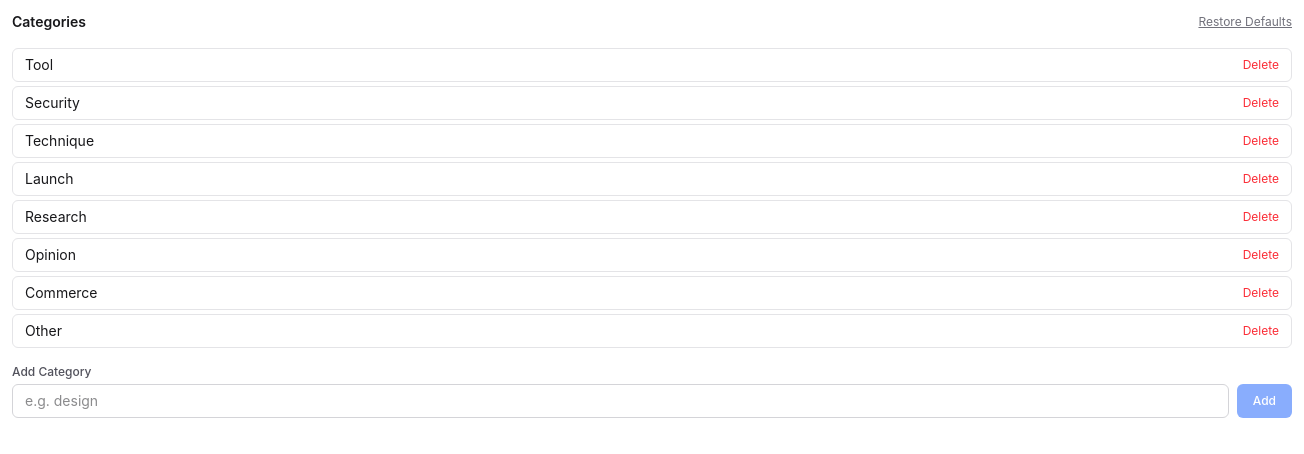
Test: CategoryEditor — adding a category › shows error when adding duplicate category
Type "tool" into the field labelled "Add Category". click: (620, 401)
box: [12,384,1229,418]
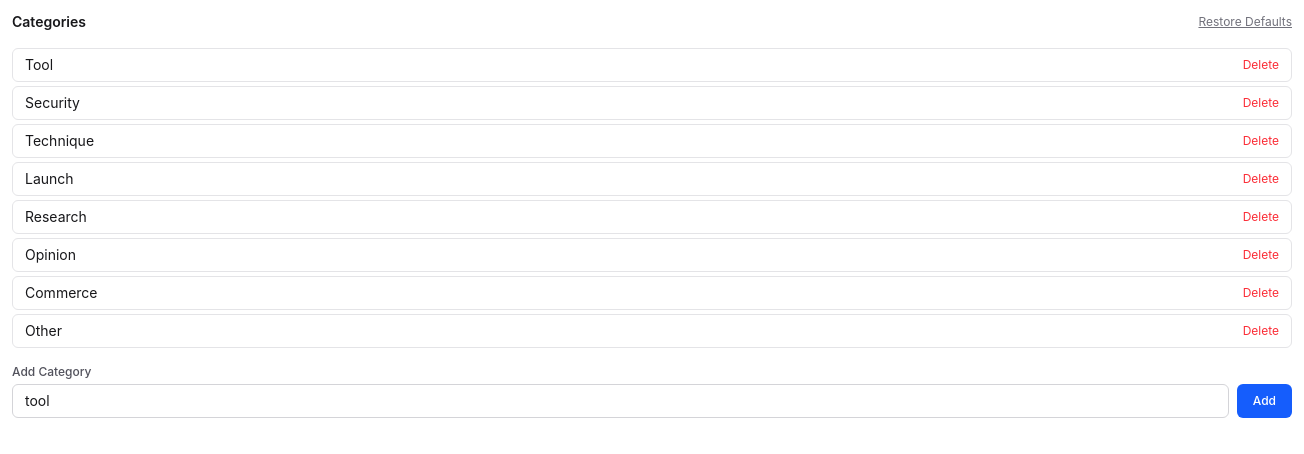
Click the button "Add". click: (1264, 401)
box: [1237,384,1292,418]
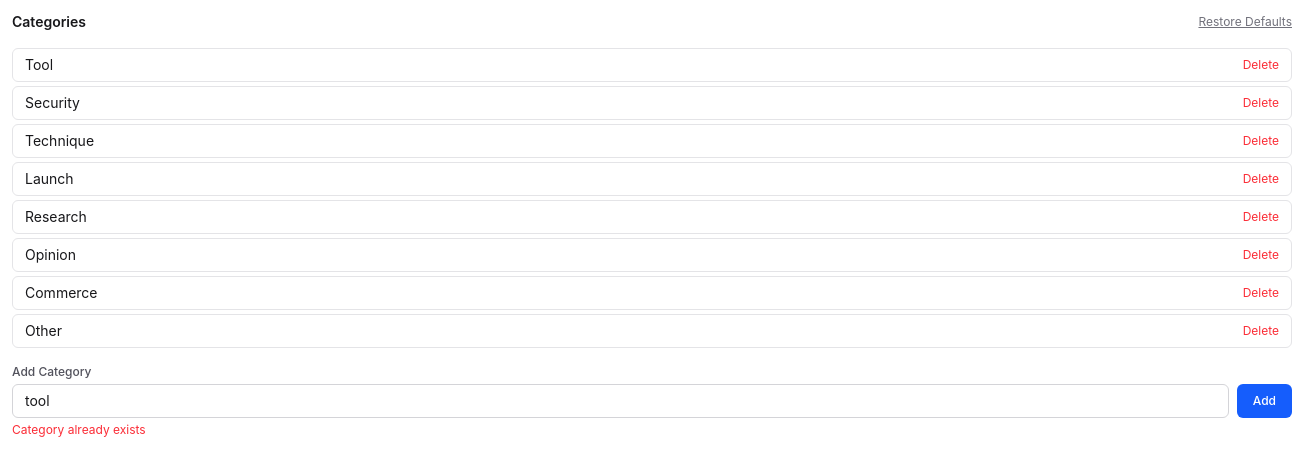
Expected: the message "Category already exists" is shown, [12,422,146,437]
